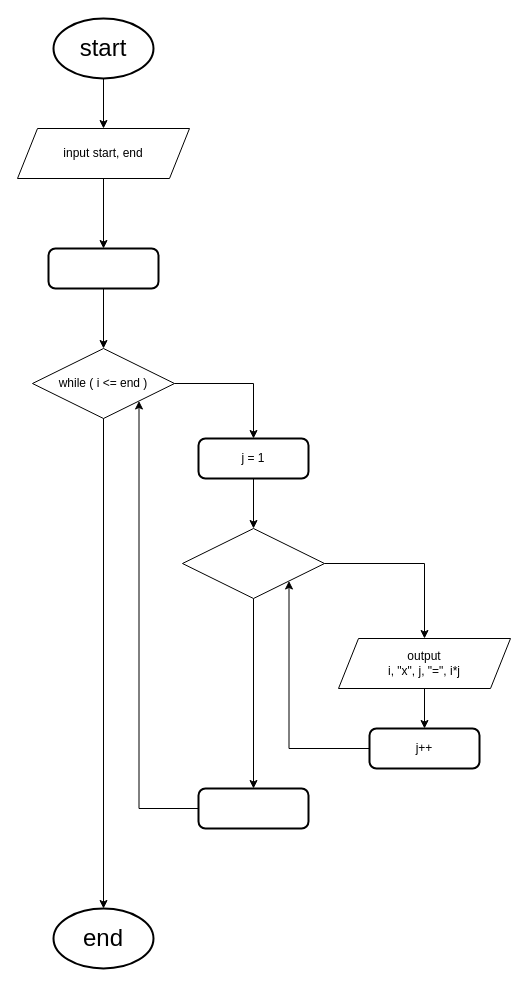
The diagram is 528 pixels wide and 986 high, and some of its shapes have lost their labels. The box of each missing label's shape, as (x1, y1, x2, y2) in pixels:
i = start: (47, 247, 159, 289)
i++: (197, 787, 309, 829)
while (j <= 9): (182, 528, 324, 598)
